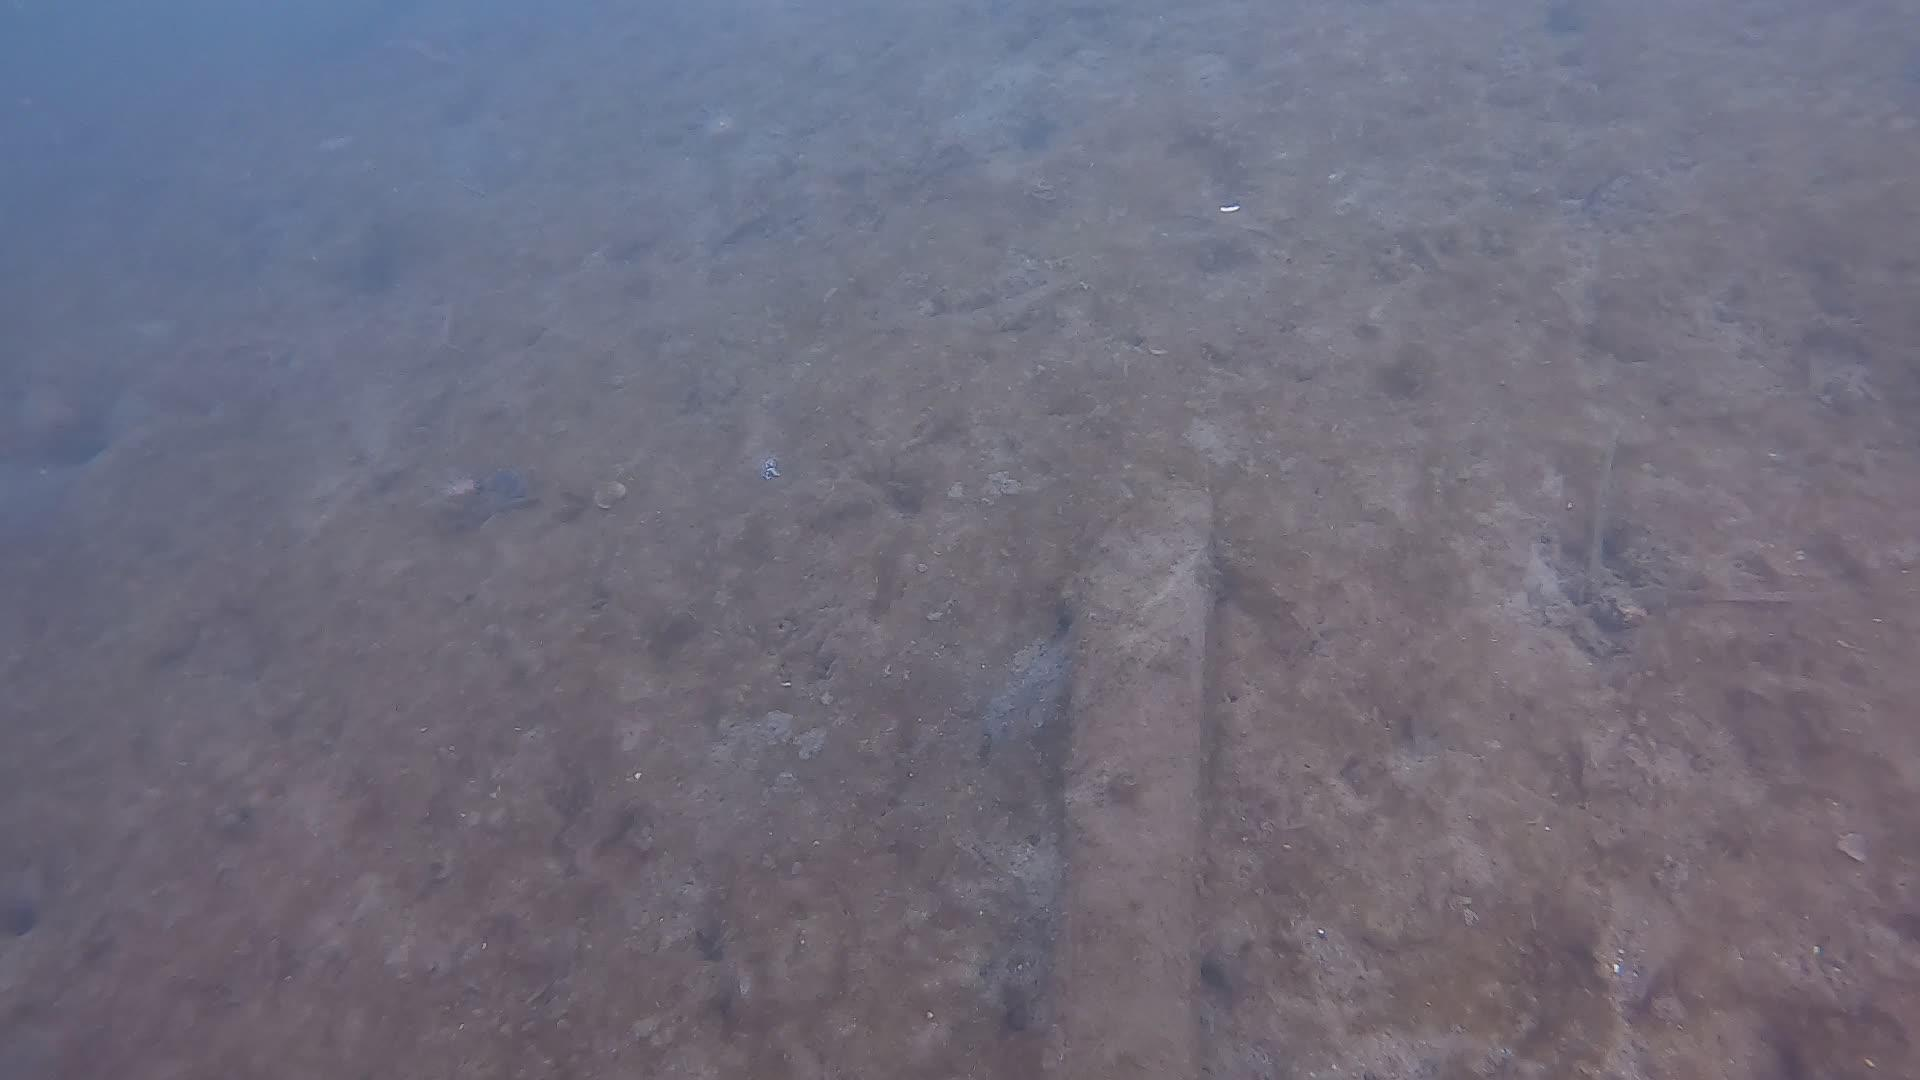wood: (1029, 465, 1218, 1080)
